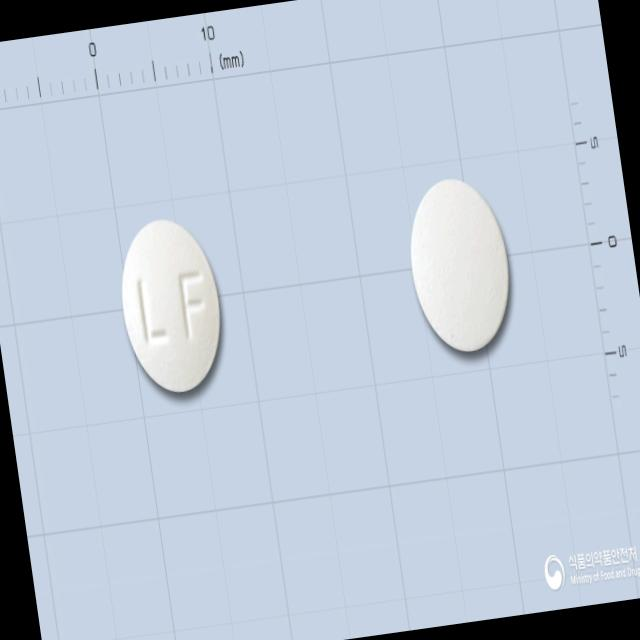Levofloxacin Tab- Withus: (111, 212, 231, 400)
